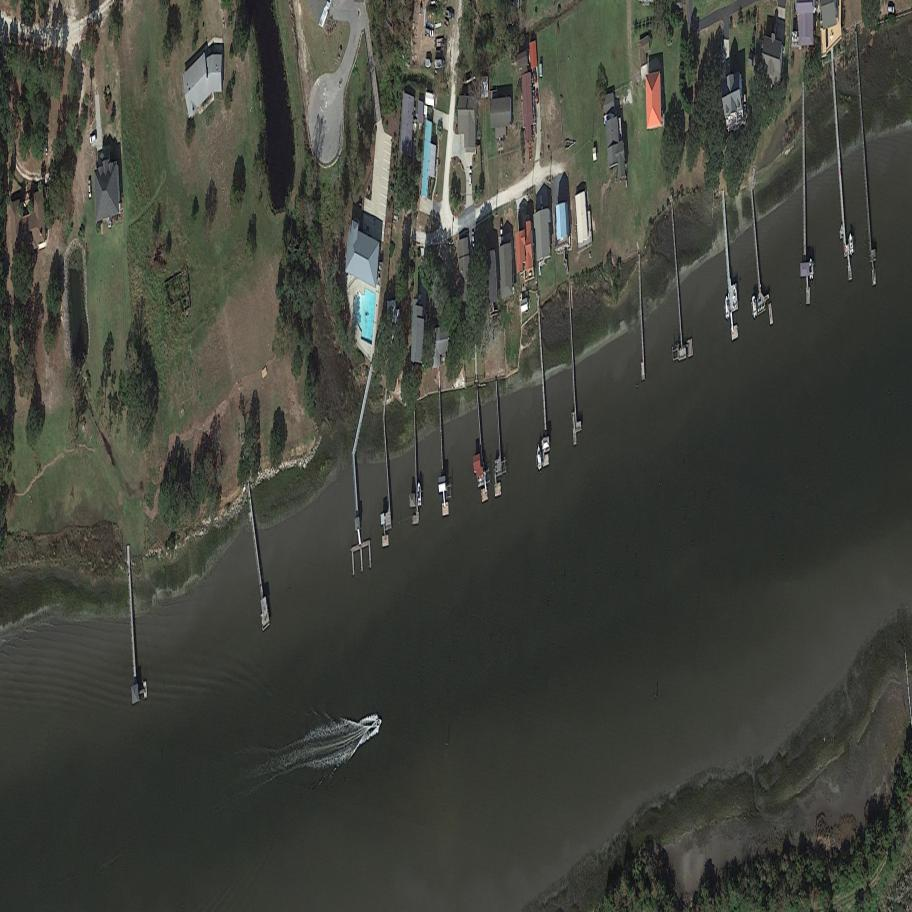ship: (724, 294, 730, 322), (848, 232, 854, 257), (537, 445, 542, 471), (752, 293, 757, 318), (417, 481, 421, 510), (375, 715, 383, 728), (809, 257, 813, 281)
small-vehicle: (468, 168, 473, 186), (89, 134, 97, 145), (88, 179, 92, 198), (45, 138, 49, 155), (471, 231, 475, 247), (536, 87, 539, 103), (888, 6, 894, 12)
